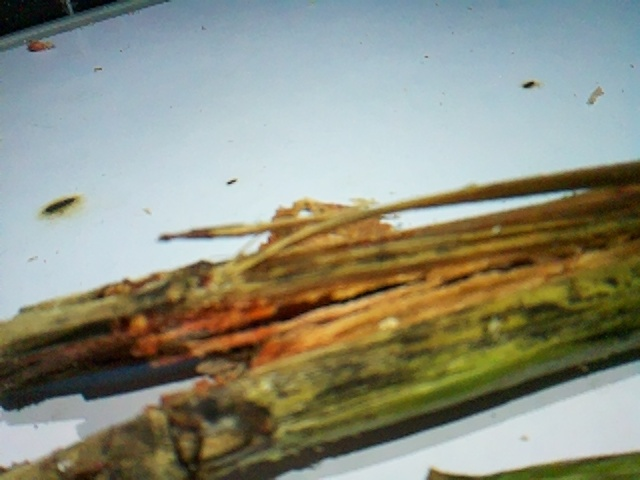Red-Rot: (15, 184, 640, 463)
